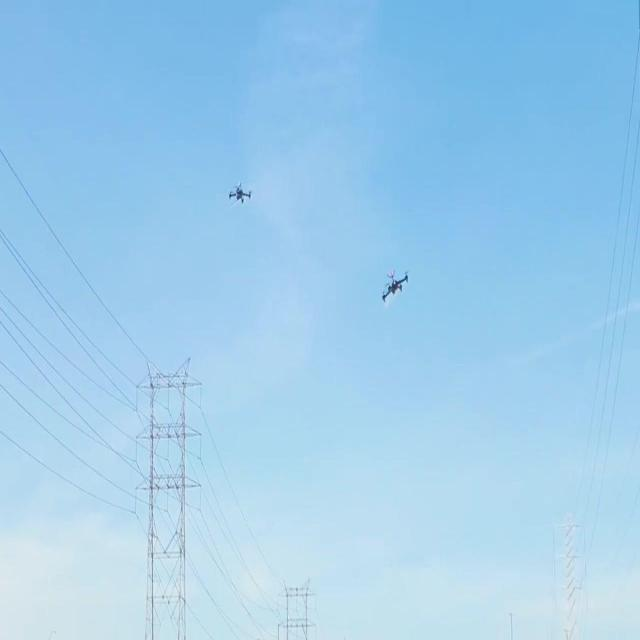drone: (380, 266, 410, 306), (226, 180, 253, 210)
